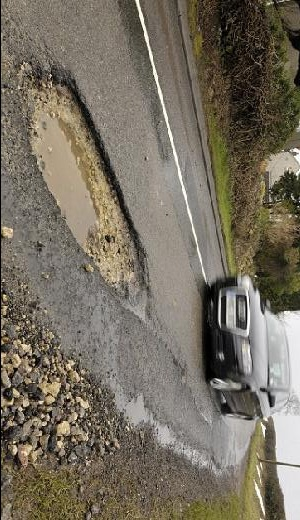pothole: (28, 65, 151, 322)
